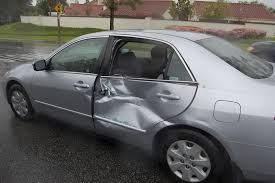doorouter-dent: (104, 72, 177, 136)
